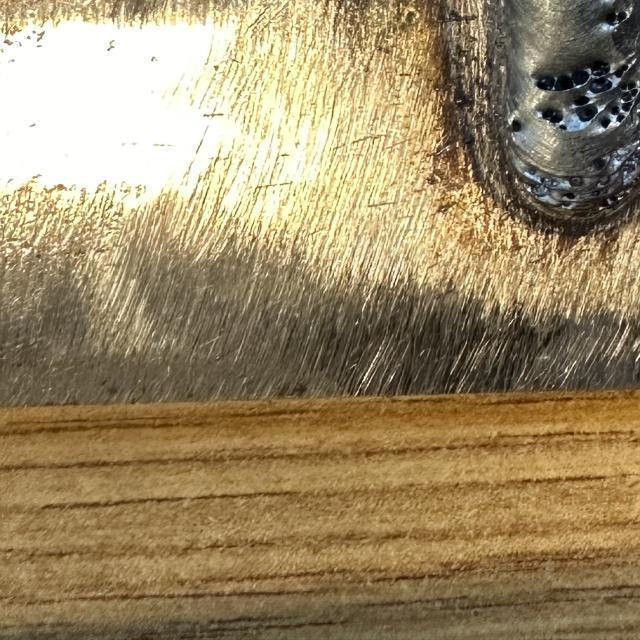Porosity: (534, 61, 638, 131), (535, 69, 625, 95), (598, 80, 638, 130), (575, 96, 598, 122), (598, 192, 628, 210), (542, 109, 566, 130), (607, 11, 628, 26), (540, 178, 563, 188), (593, 156, 608, 170), (568, 176, 585, 188), (510, 119, 523, 133), (562, 191, 575, 200), (527, 168, 537, 175)
Spatters: (503, 168, 510, 176)
